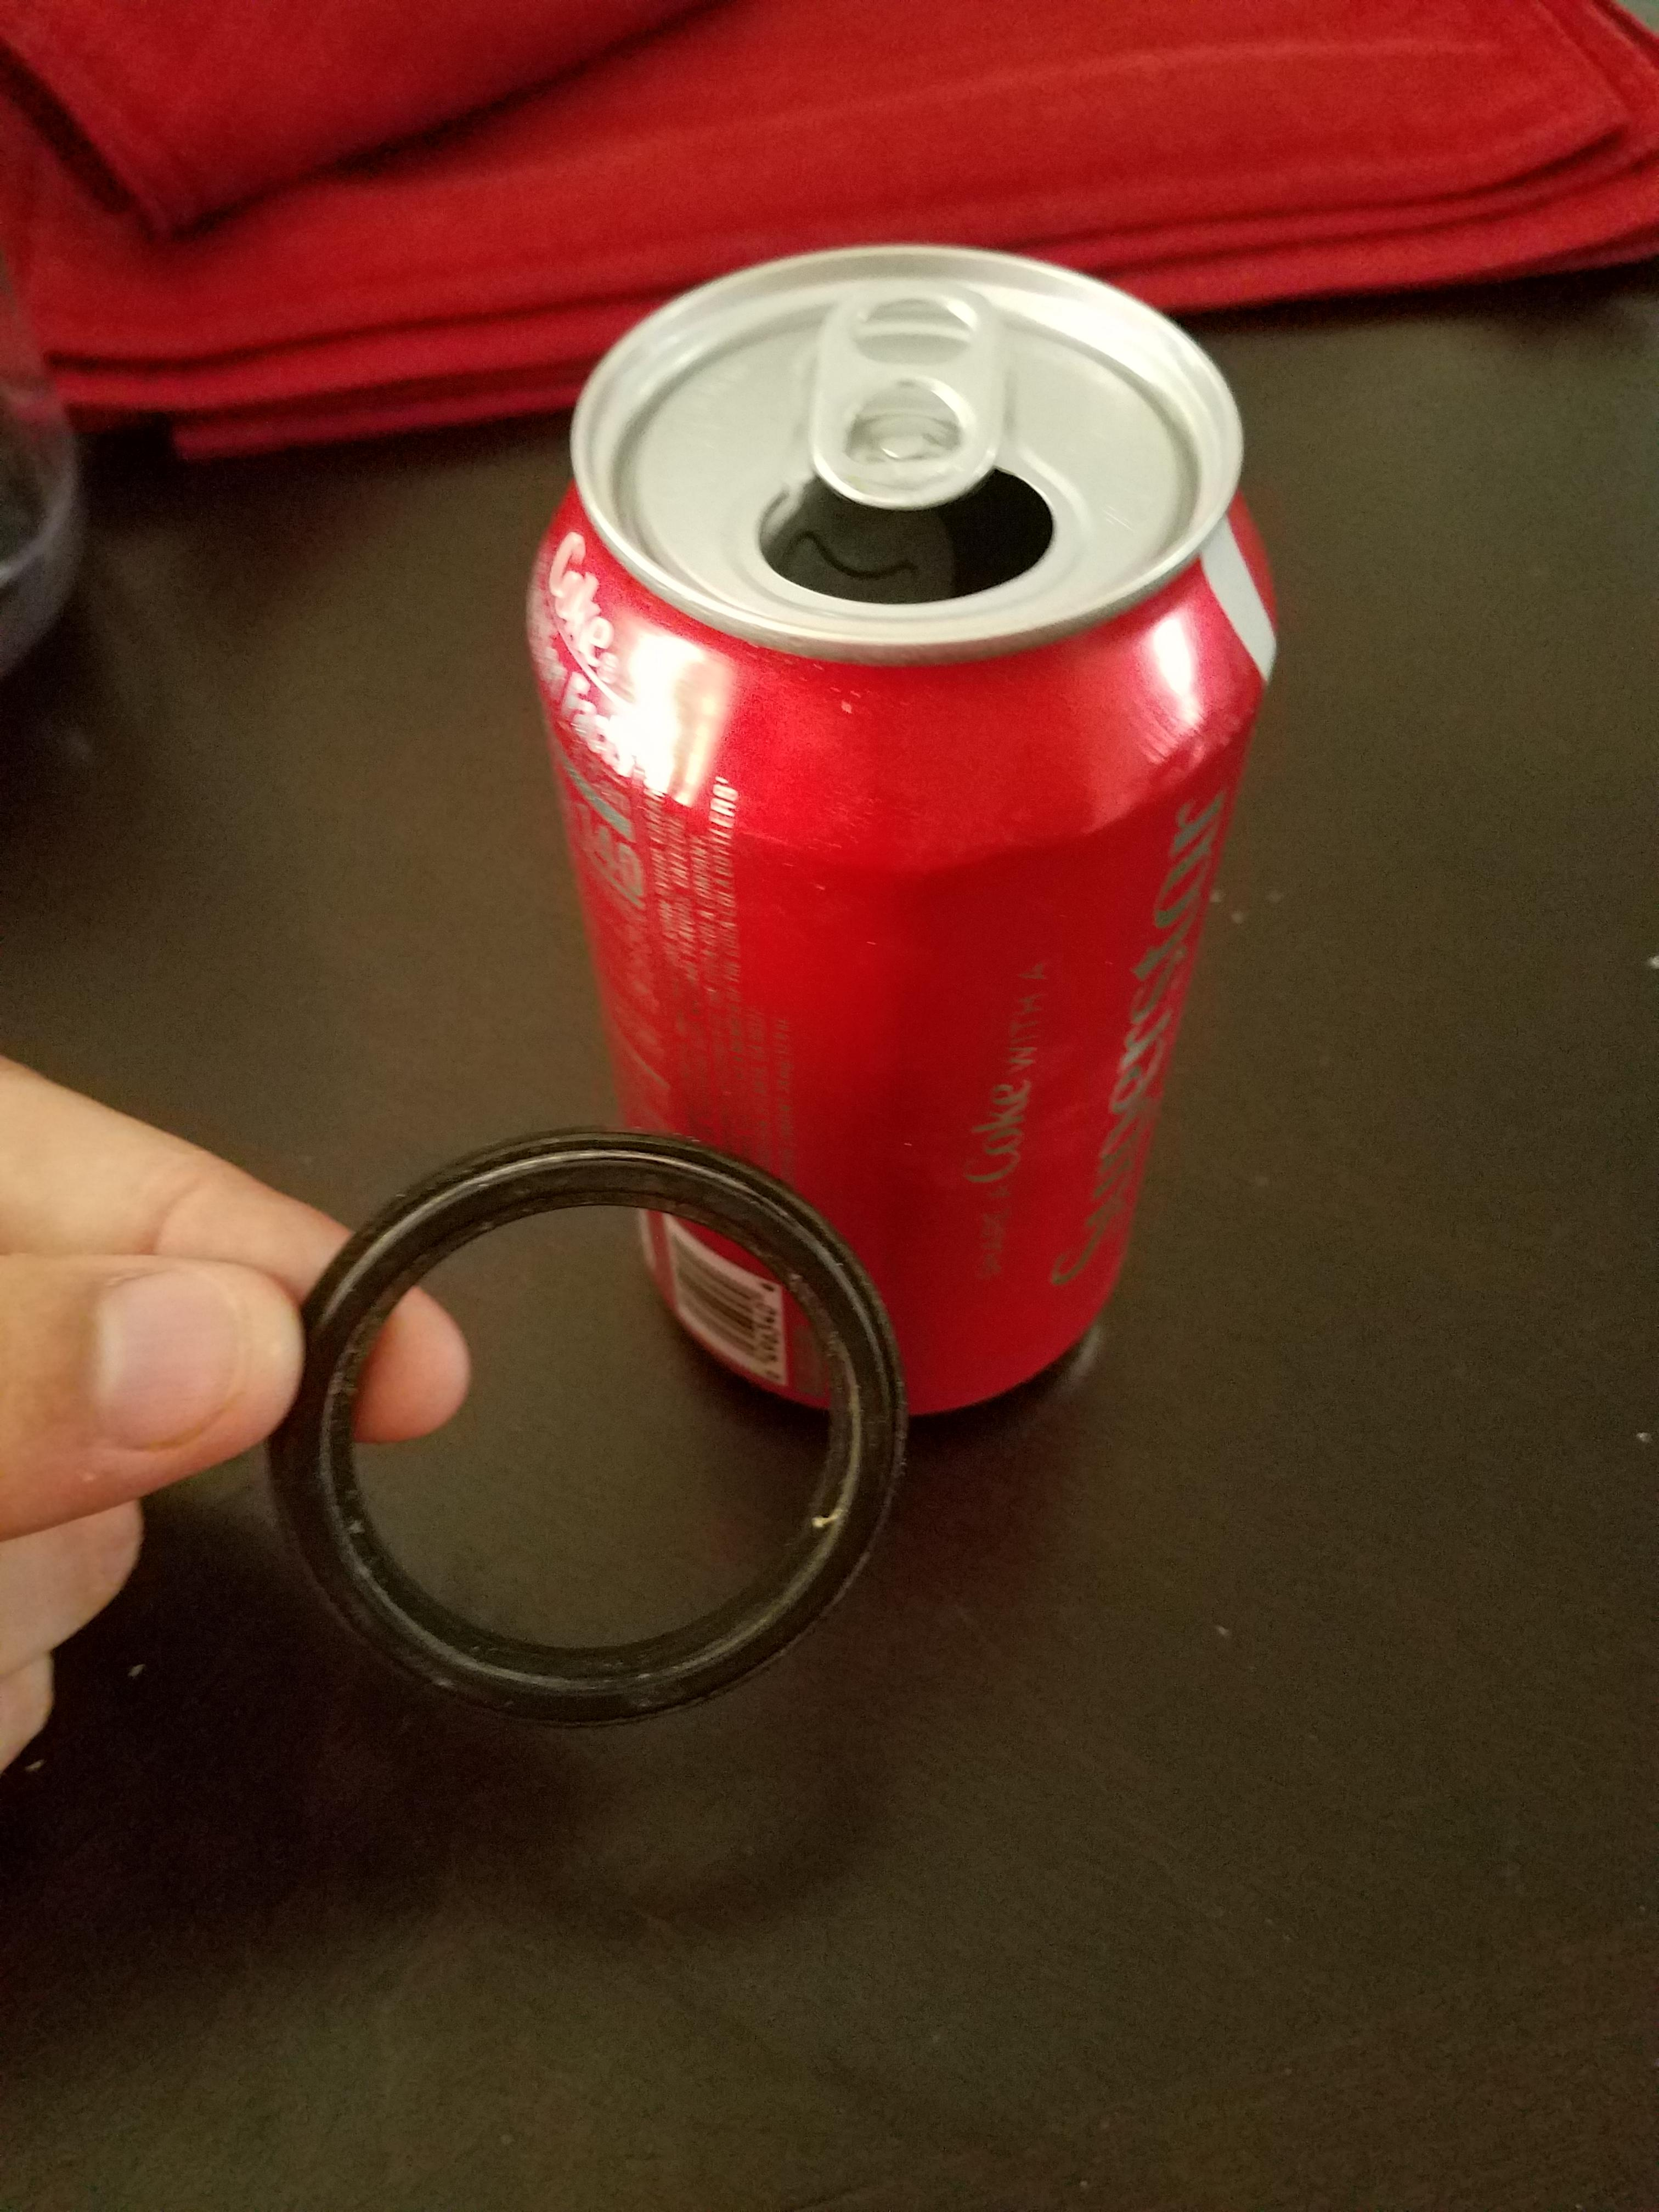coke: (523, 239, 1277, 1416)
